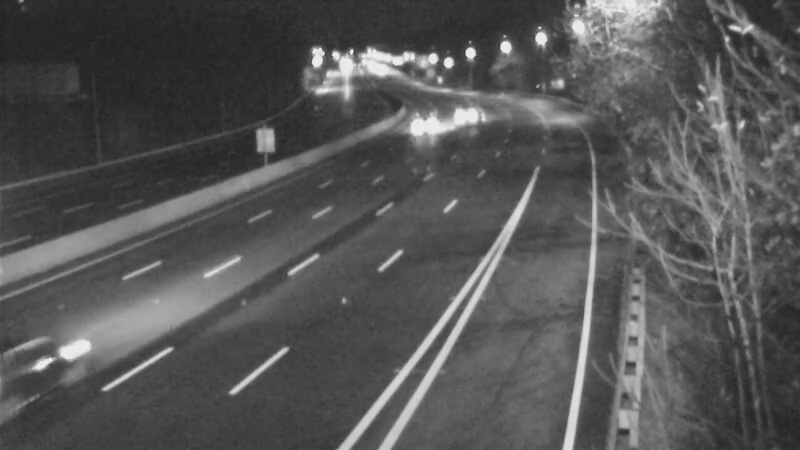vehicle: (1, 317, 102, 427), (438, 89, 488, 139), (399, 97, 449, 147)
